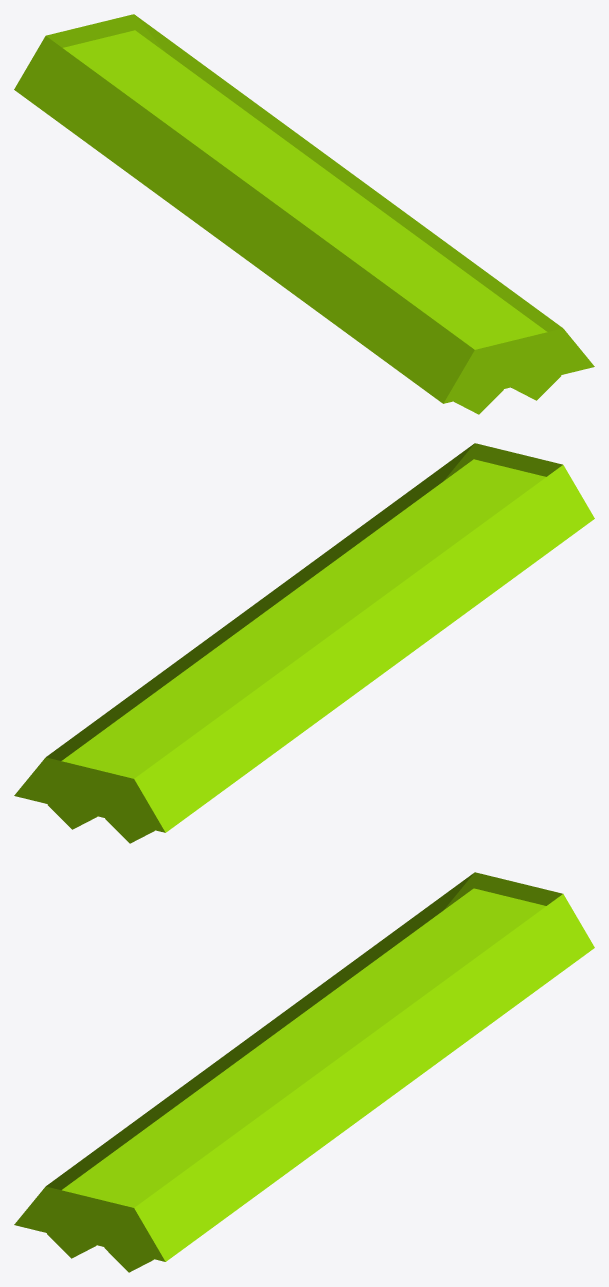
File: Asset_Garage1_12.fbx
3 views of the same model, one above another, from view 1: azimuth 30°, elevation 25°; view 2: azimuth 150°, elevation 25°; view 3: azimuth 330°, elevation 25° (orthographic).
Parts seen in each view (by area): view 1: Asset_Garage1_12; view 2: Asset_Garage1_12; view 3: Asset_Garage1_12.
Part boxes in pixels (x1=…): Asset_Garage1_12: x1=14, y1=14, x2=594, y2=414; Asset_Garage1_12: x1=14, y1=443, x2=594, y2=843; Asset_Garage1_12: x1=14, y1=872, x2=594, y2=1272.
Size of the model in its own units: 19.12 by 9.22 by 93.7.
